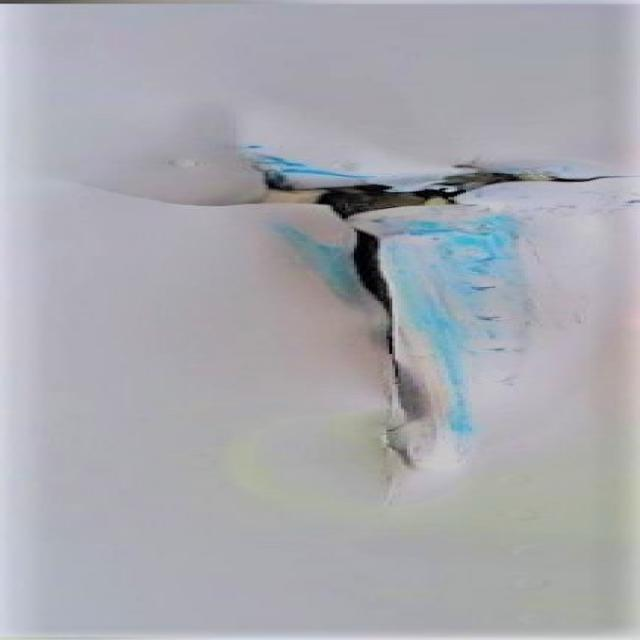Rupture: (112, 128, 625, 488)
